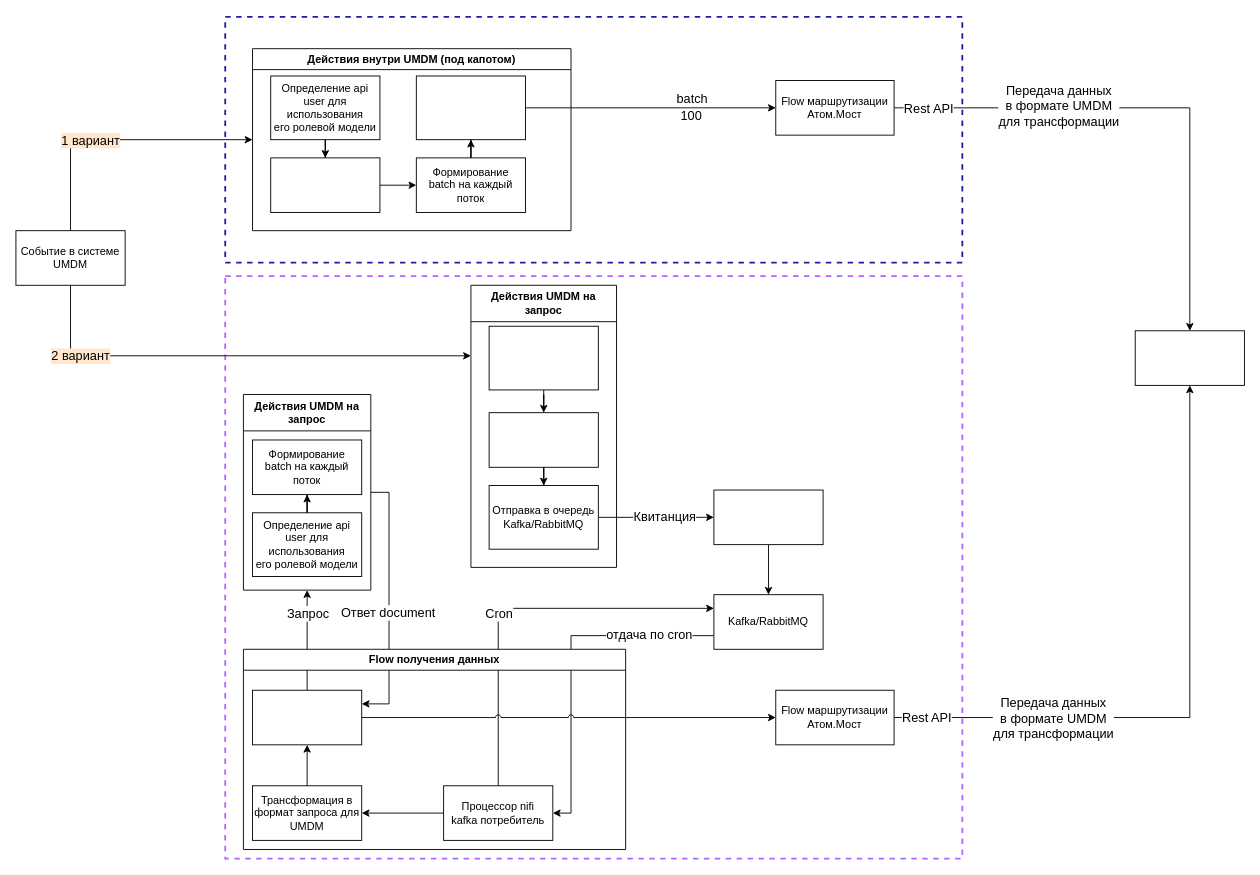
Some shapes in this 1260 by 875 pixel diagram are drawn without their labels. Here are the shapes that lost their labels. From the top down, the centre of each, then its label:
At point 470,107: "Rest API отправка на соответствующие webhook".
At point 325,184: "Параметры webhook".
At point 543,357: "Формирования квитанции".
At point 1189,357: "ЕСИК БП 2.0".
At point 543,439: "Определения очереди в которую надо отправить в kafka".
At point 768,517: "GID или LID Технические данные имя реестра/справочника".
At point 307,717: "Запрос Invoke HTTP / api user".
